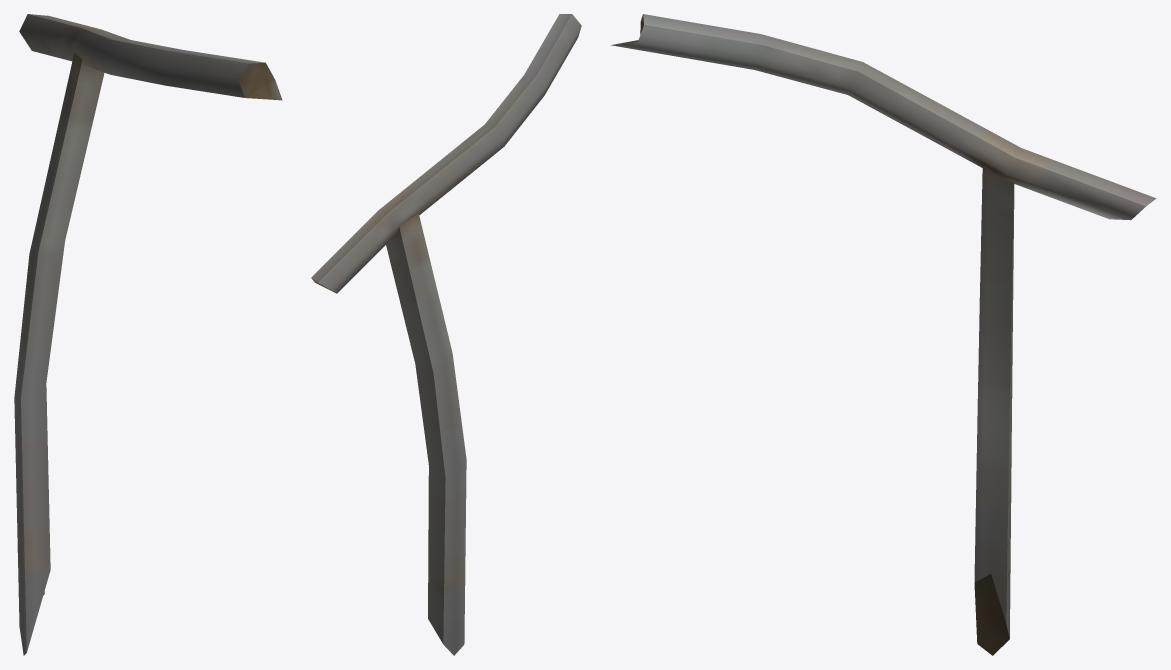
Rendered from staircase_spiral01_stair04_part03.glb.
3 views of the same model, side by side, from view 1: azimuth 30°, elevation 25°; view 2: azimuth 150°, elevation 25°; view 3: azimuth 270°, elevation 25° (orthographic). The views are drawn at different scales.
Parts seen in each view (by area): view 1: staircase_spiral01_stair04_part03; view 2: staircase_spiral01_stair04_part03; view 3: staircase_spiral01_stair04_part03.
Part boxes in pixels (left/top/right/bottom): staircase_spiral01_stair04_part03: left=14, top=14, right=282, bottom=655; staircase_spiral01_stair04_part03: left=311, top=14, right=581, bottom=655; staircase_spiral01_stair04_part03: left=611, top=14, right=1156, bottom=655.
Bounding box in the file's own units: 0.133 × 0.7502 × 0.5662.
Materials: 1 (1 with a texture image).
